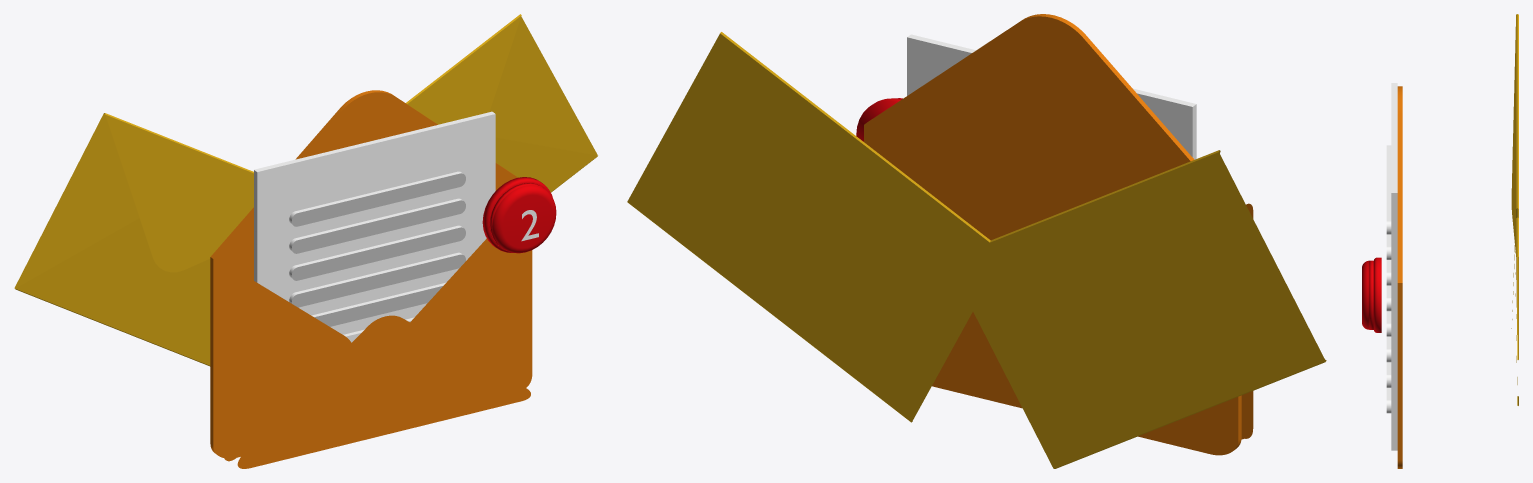
File: envelope_low_poly.glb
3 views of the same model, side by side, from view 1: azimuth 30°, elevation 25°; view 2: azimuth 150°, elevation 25°; view 3: azimuth 270°, elevation 25° (orthographic). The views are drawn at different scales.
Visible parts, largest first — view 1: Cube_1, Plane.012_2, Plane.007_5, Plane.001_0, Plane.006_4, Plane.005_6, Plane.004_3, Cylinder_8; view 2: Plane.012_2, Plane.001_0, Plane.004_3, Cube_1; view 3: Cube_1, Plane.004_3, Plane.012_2, Cylinder_8.
Boxes of the visible parts, <box> form: Cube_1: <box>254,111,495,342</box>; Plane.012_2: <box>14,113,253,366</box>; Plane.007_5: <box>237,315,530,468</box>; Plane.001_0: <box>406,14,597,192</box>; Plane.006_4: <box>223,265,351,461</box>; Plane.005_6: <box>410,238,532,387</box>; Plane.004_3: <box>210,90,517,457</box>; Cylinder_8: <box>482,177,556,253</box>; Plane.012_2: <box>947,150,1326,468</box>; Plane.001_0: <box>627,32,990,422</box>; Plane.004_3: <box>864,14,1241,455</box>; Cube_1: <box>907,34,1196,159</box>; Cube_1: <box>1386,83,1397,450</box>; Plane.004_3: <box>1397,86,1402,468</box>; Plane.012_2: <box>1511,14,1518,359</box>; Cylinder_8: <box>1362,257,1381,332</box>.
Bounding box in the file's own units: 3.73 × 2.03 × 0.9605.
